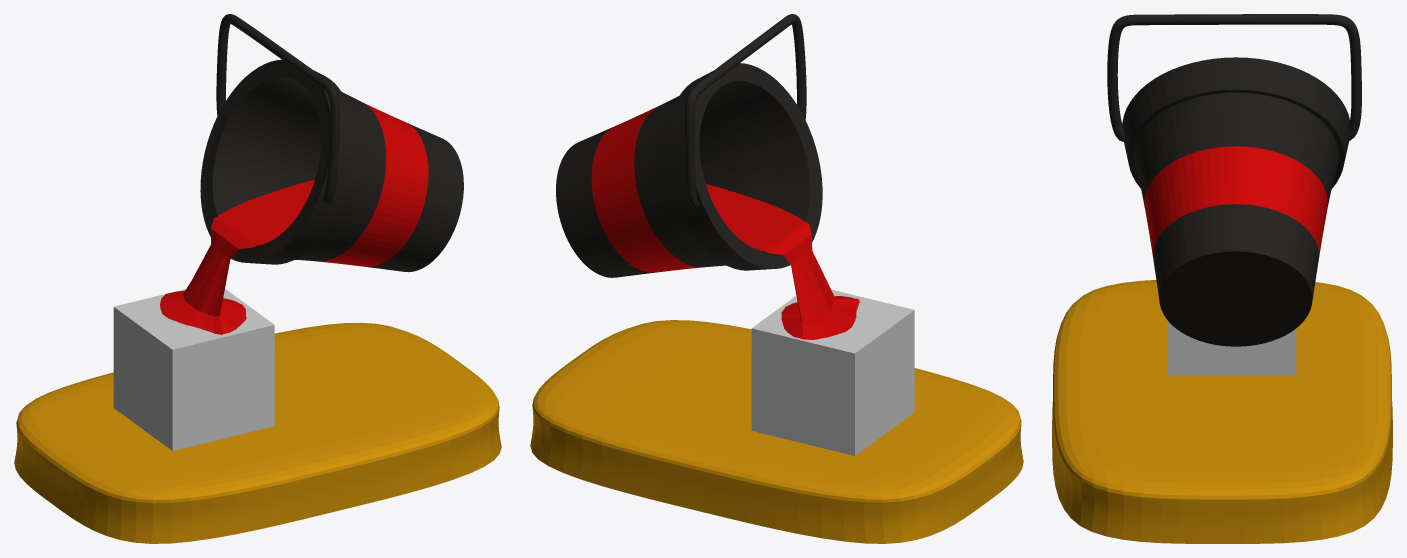
File: fill_red_btn.obj
3 views of the same model, side by side, from view 1: azimuth 30°, elevation 25°; view 2: azimuth 150°, elevation 25°; view 3: azimuth 270°, elevation 25° (orthographic). The views are drawn at different scales.
Parts seen in each view (by area): view 1: Cube, Cylinder, Cube.001, Cylinder.001; view 2: Cube, Cylinder, Cube.001, Cylinder.001; view 3: Cube, Cylinder, Cube.001.
Boxes of the visible parts, box(x1,y1,x2,y2) form: Cube: box(14, 322, 501, 543); Cylinder: box(200, 14, 463, 272); Cube.001: box(113, 289, 274, 450); Cylinder.001: box(160, 179, 314, 334); Cube: box(530, 320, 1023, 543); Cylinder: box(556, 14, 822, 277); Cube.001: box(751, 289, 914, 455); Cylinder.001: box(706, 184, 860, 339); Cube: box(1052, 280, 1392, 543); Cylinder: box(1107, 14, 1361, 346); Cube.001: box(1167, 320, 1296, 375).
Size of the model in its own units: 17.54 by 16.18 by 11.5.
